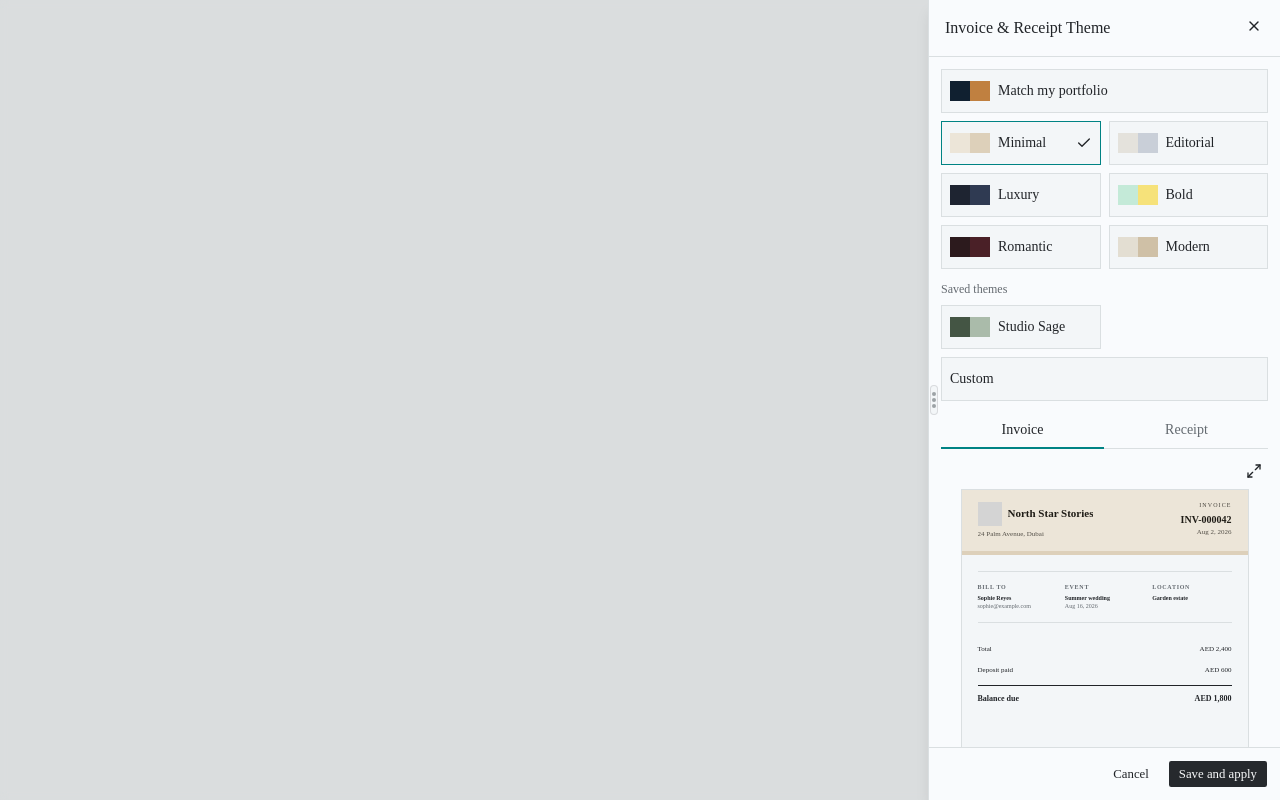
Test: InvoiceThemeDialog › shows workspace data in compact A4 invoice and receipt previews
Expected: the text "North Star Stories" is shown, 1008,507 -> 1094,521
Click the tab "Receipt". click: (1186, 430)
box: 1105,412 -> 1268,448
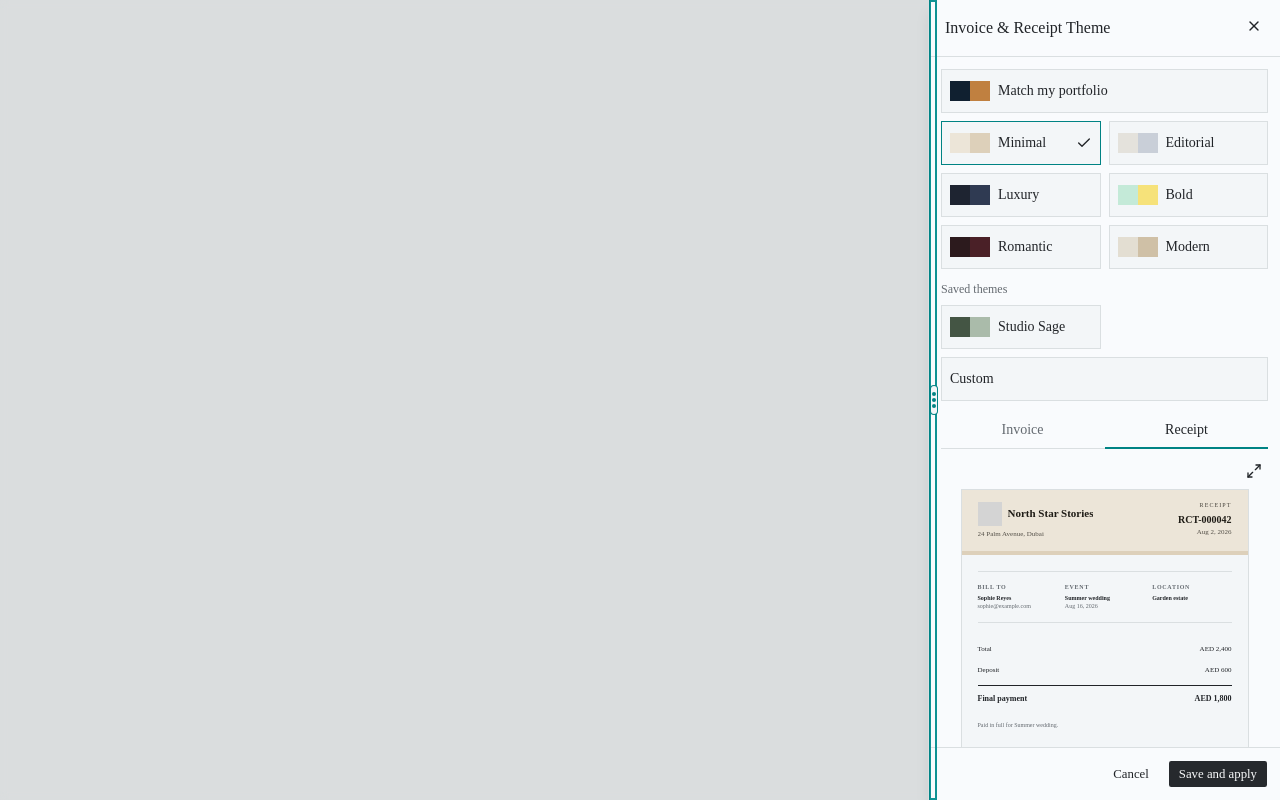
Result: the element named "Receipt preview" is shown at 960,489 -> 1248,747
Result: the text "Paid in full for Summer wedding." is shown at 978,722 -> 1058,728
